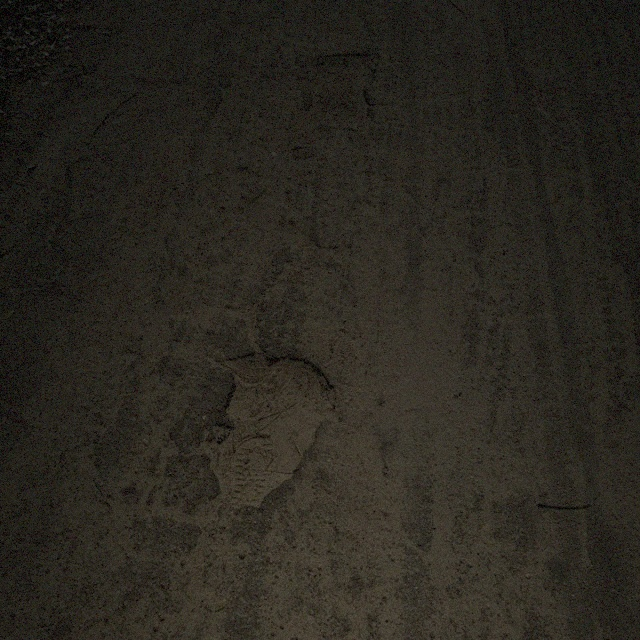pothole: (197, 343, 339, 512), (295, 47, 381, 134)
